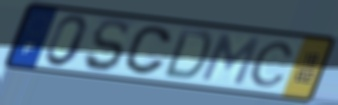0: (44, 13, 91, 69)
C: (121, 24, 175, 77), (247, 40, 296, 89)
D: (161, 26, 215, 82)
M: (198, 32, 263, 88)
S: (81, 18, 130, 75)
